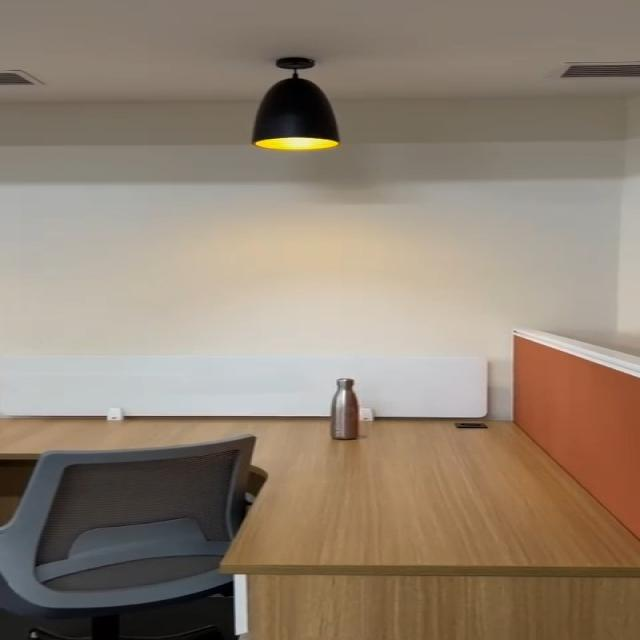furniture: (0, 410, 258, 640)
wall: (0, 47, 640, 334)
